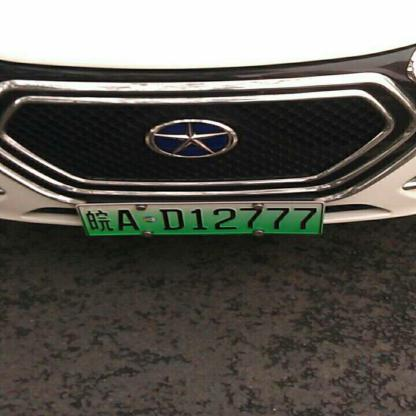lp: (78, 204, 323, 235)
